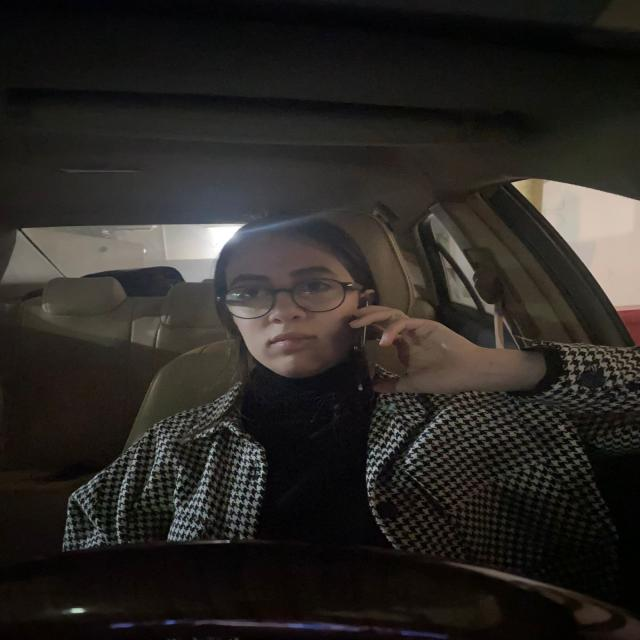mobile: (352, 298, 405, 397)
person: (212, 223, 373, 382)
